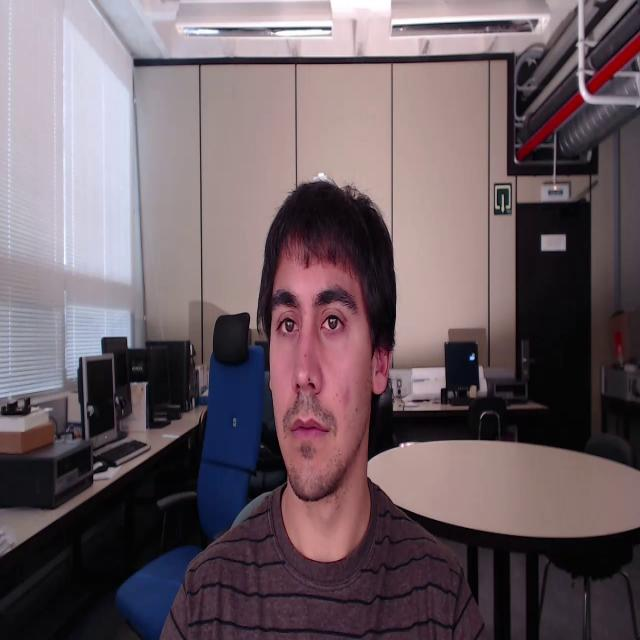eye: (318, 311, 346, 335), (276, 312, 301, 338)
gaze: (328, 316, 338, 330), (285, 317, 294, 332)
